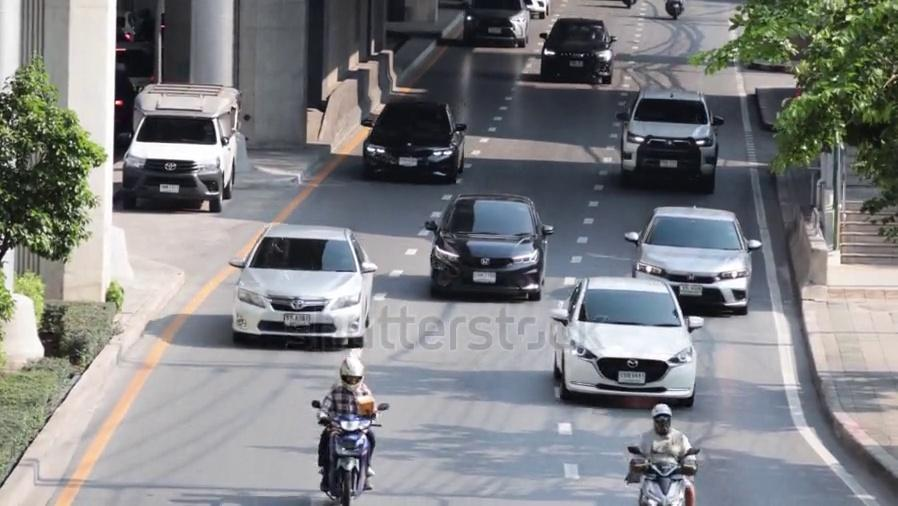rider: (313, 355, 382, 492), (625, 402, 699, 505)
with_helmate: (338, 356, 366, 388), (651, 402, 673, 436)
